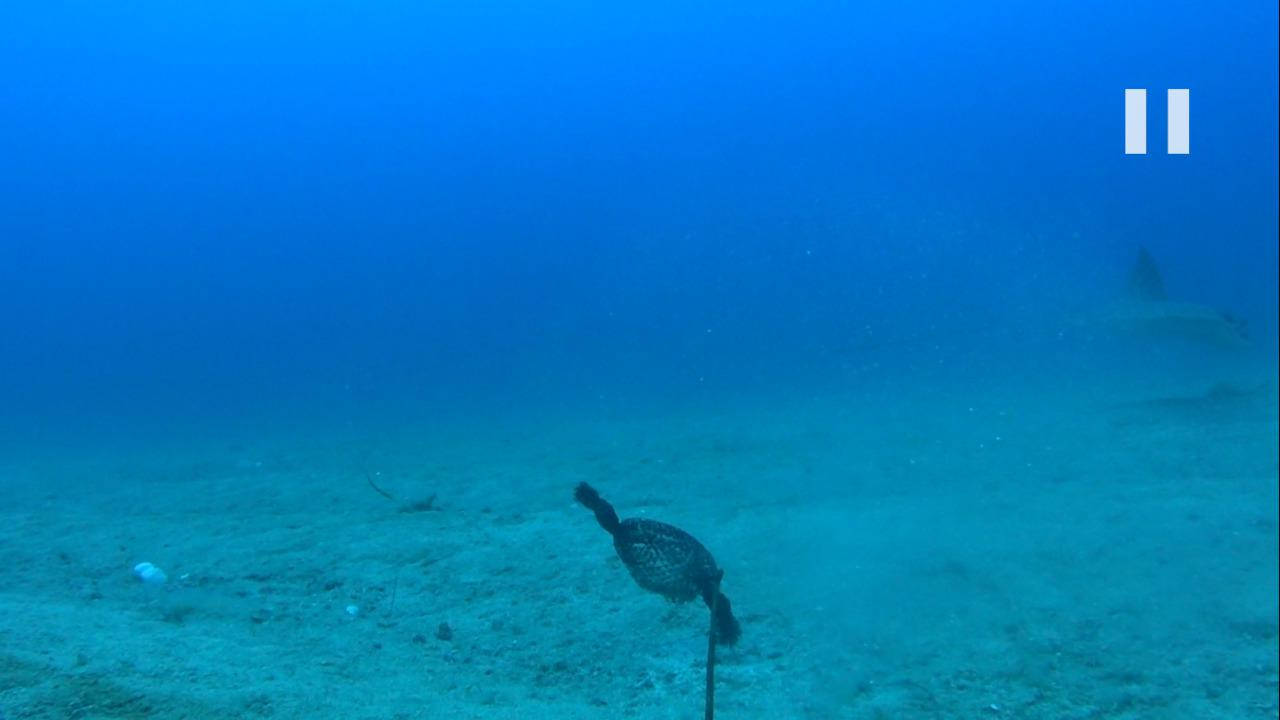myliobatis: (808, 243, 1260, 385)
